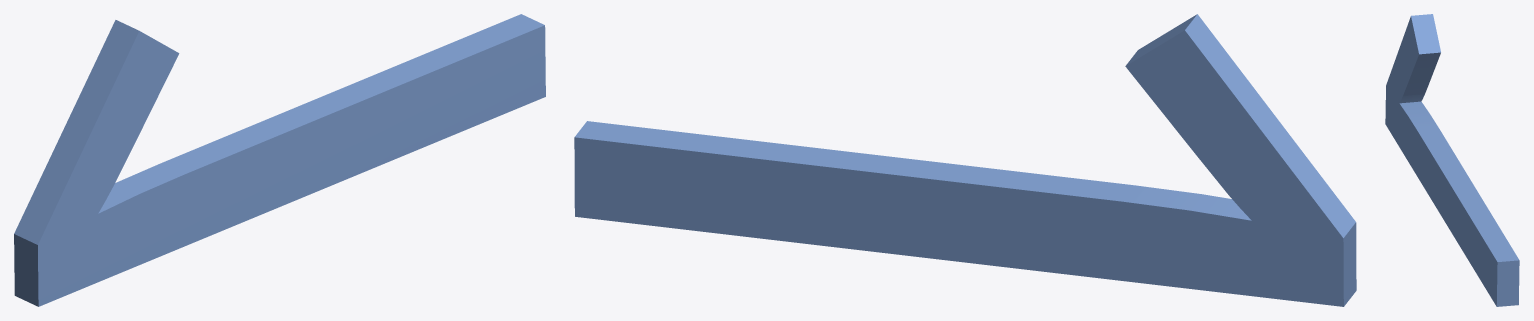
The model's file is New_Number_1.gltf.
The picture shows the model from 3 angles, left to right: view 1: azimuth 30°, elevation 25°; view 2: azimuth 150°, elevation 25°; view 3: azimuth 270°, elevation 25°; orthographic projection. The views are drawn at different scales.
Parts seen in each view (by area): view 1: Part 424; view 2: Part 424; view 3: Part 424.
Part boxes in pixels (x1,y1,x2,y2): Part 424: (14,14,545,306); Part 424: (574,14,1356,306); Part 424: (1385,14,1519,306).
Bounding box in the file's own units: 0.00494 × 0.00182 × 0.00152.
